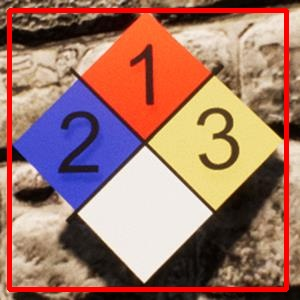nfpa: (9, 10, 286, 289)
